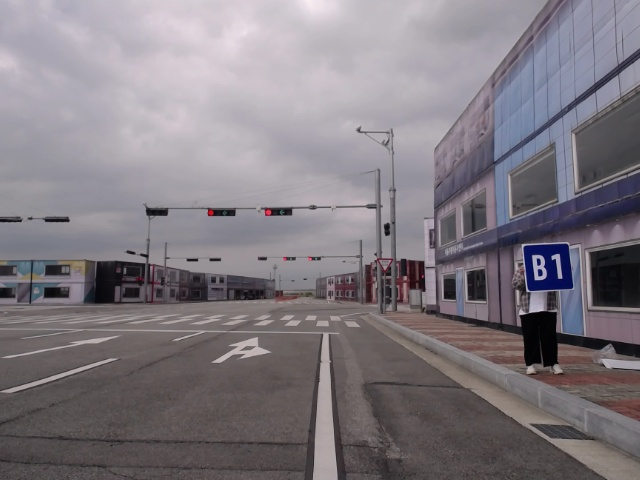delivery_b1: (523, 242, 574, 292)
left_green_4: (207, 208, 236, 217), (264, 207, 293, 216), (283, 257, 296, 261), (308, 257, 321, 261)
